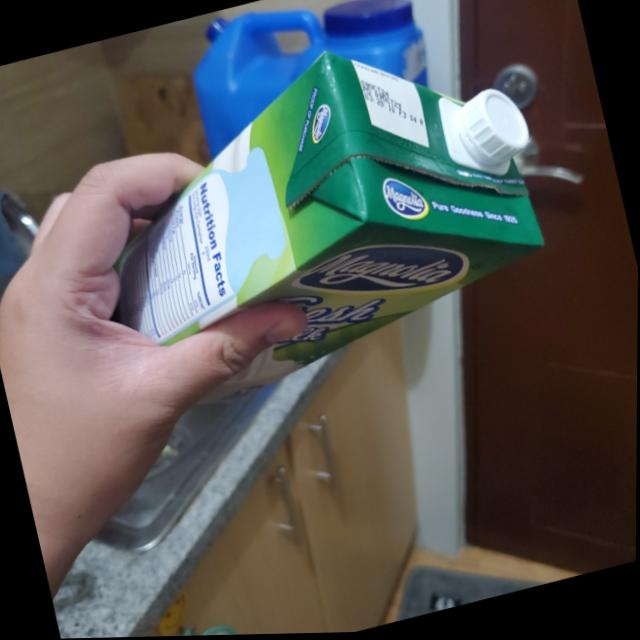milk: (66, 6, 573, 417)
